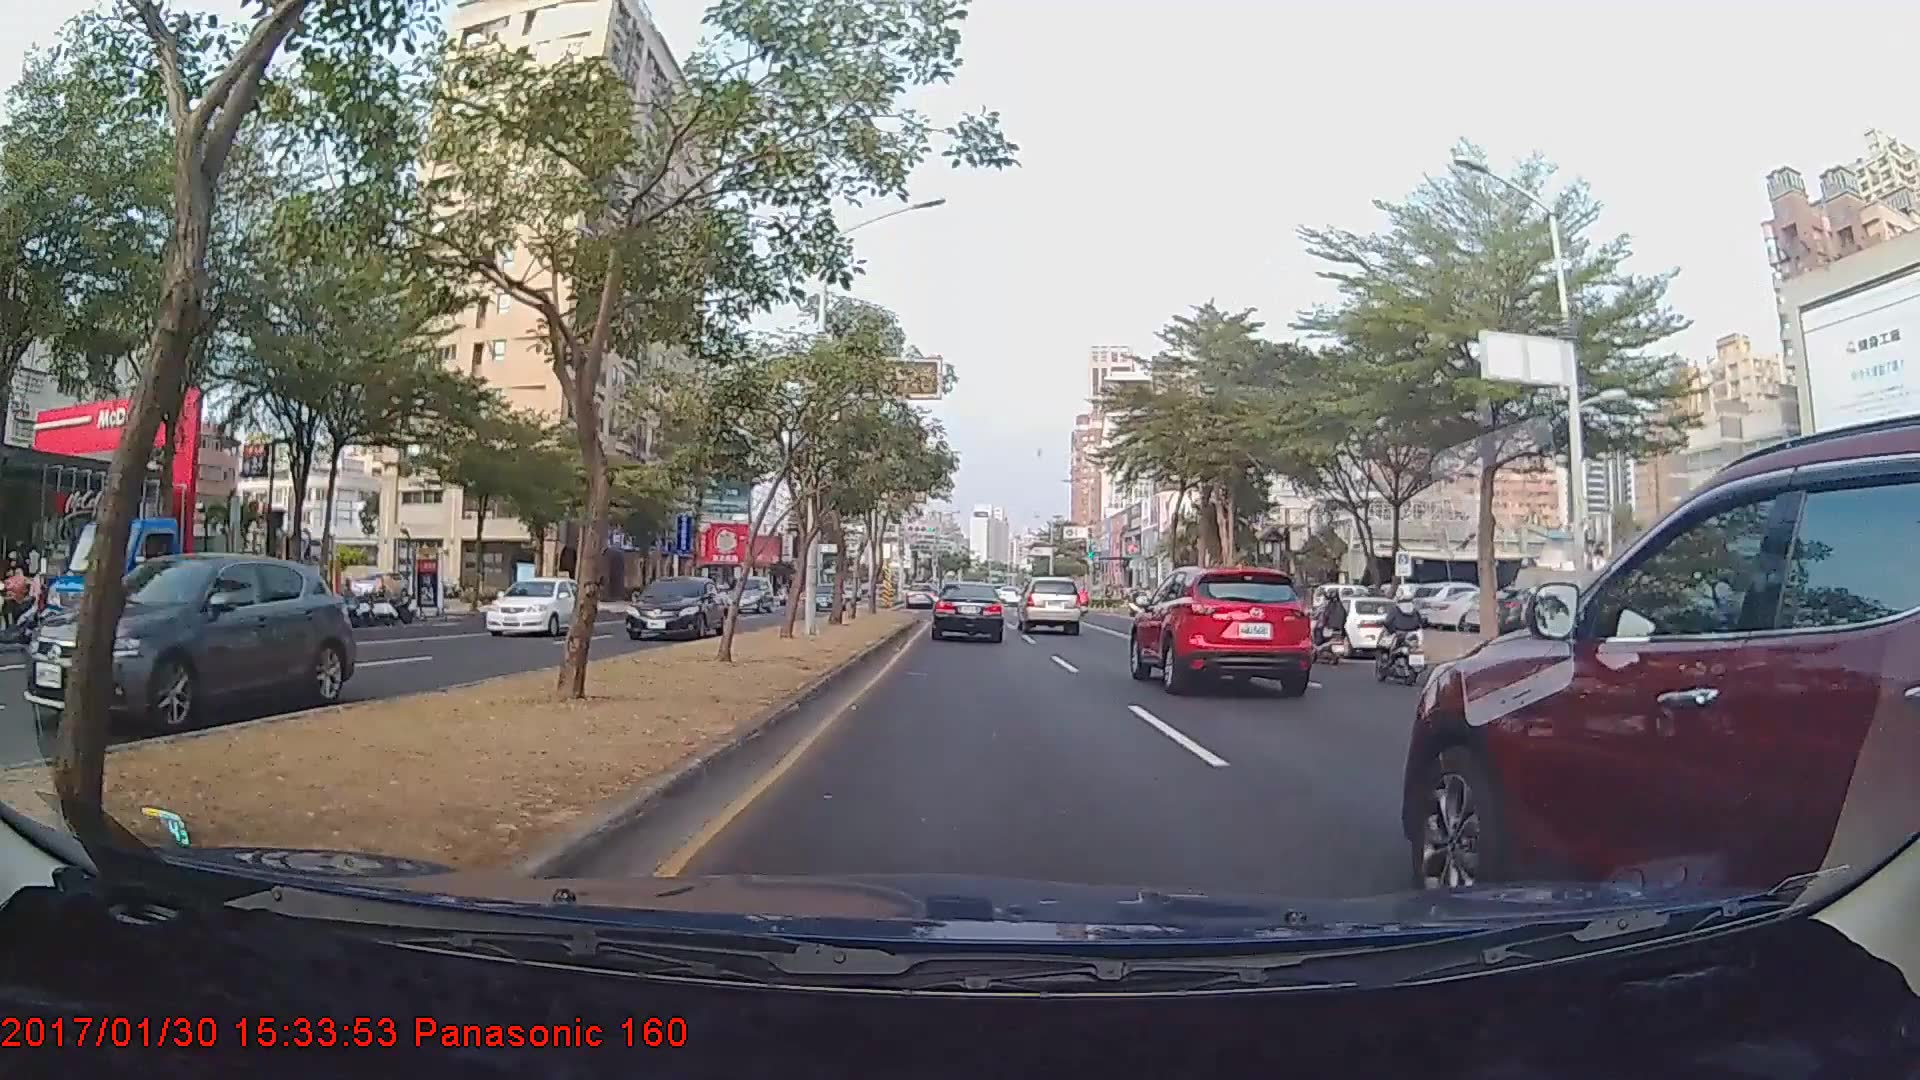rider: (1367, 580, 1433, 681), (1300, 580, 1354, 666)
vehicle: (1403, 416, 1920, 963), (21, 551, 358, 729), (1130, 559, 1313, 693), (1307, 594, 1421, 657), (623, 578, 730, 642), (483, 573, 592, 634), (931, 580, 1005, 643), (1019, 576, 1081, 634), (724, 575, 773, 614), (808, 581, 845, 611), (904, 581, 939, 609)
